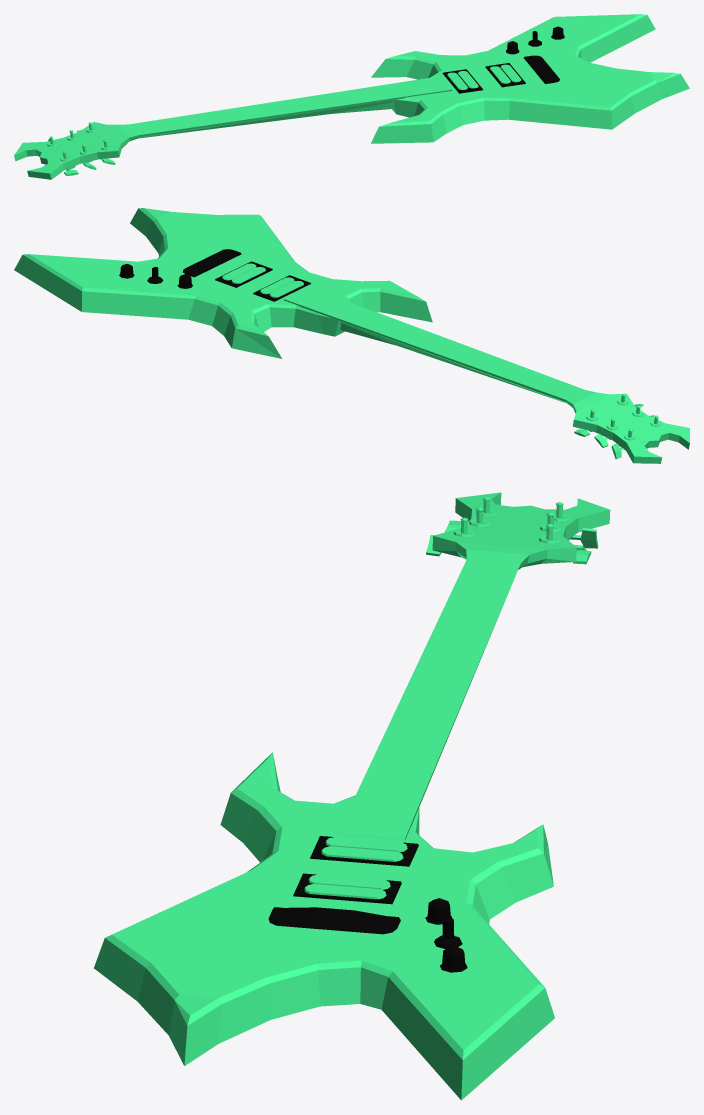
The model's file is ToyObject_151.fbx.
3 renders of one model, top to bottom at view 1: azimuth 30°, elevation 25°; view 2: azimuth 150°, elevation 25°; view 3: azimuth 270°, elevation 25°, orthographic. The views are drawn at different scales.
Visible parts, largest first — view 1: Object.041; view 2: Object.041; view 3: Object.041.
Part boxes in pixels (x1=…): Object.041: x1=14, y1=14, x2=689, y2=179; Object.041: x1=14, y1=208, x2=689, y2=463; Object.041: x1=94, y1=492, x2=610, y2=1100.
Size of the model in its own units: 0.3288 by 0.0182 by 0.1189.
